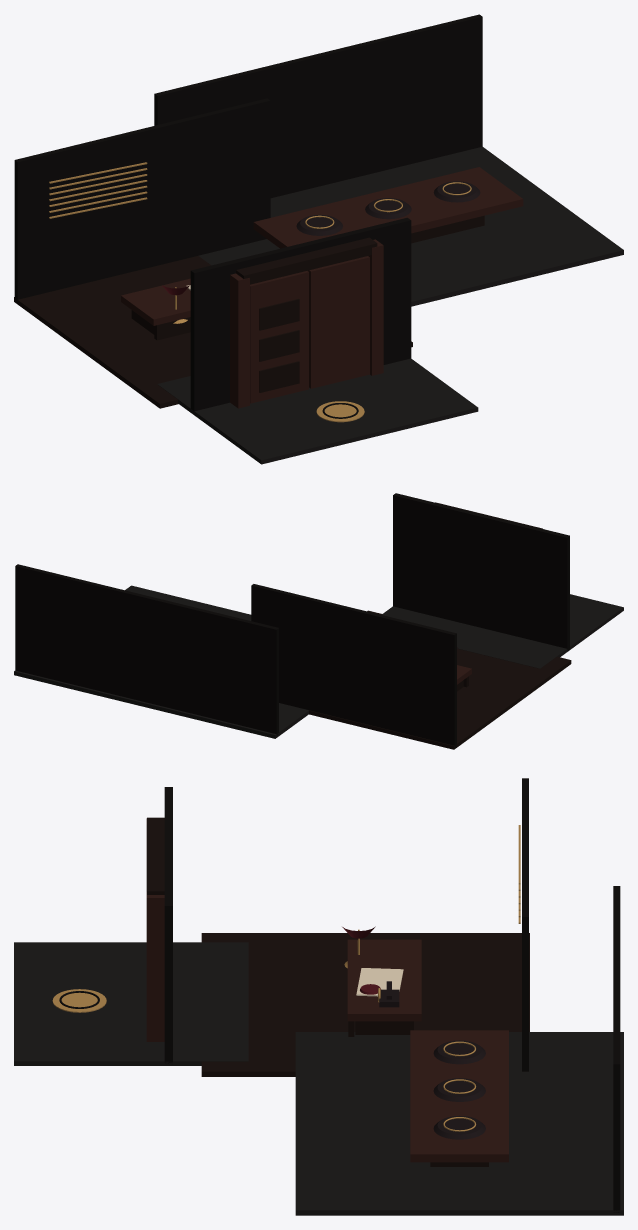
File: estate-core-balanced.glb
3 views of the same model, one above another, from view 1: azimuth 30°, elevation 25°; view 2: azimuth 150°, elevation 25°; view 3: azimuth 270°, elevation 25° (orthographic). The views are drawn at different scales.
Visible parts, largest first — view 1: StudyBackWall, CouncilBackWall, CouncilFloor, ThresholdFloor, StudyFloor, ThresholdWall, CouncilTableTop, ThresholdDoorRightPanel, ThresholdDoorLeftPanel, ThresholdPillarLeft, ThresholdLintel, StudyDeskTop (+9 smaller); view 2: CouncilBackWall, StudyBackWall, ThresholdWall, StudyFloor, ThresholdFloor, CouncilFloor; view 3: CouncilFloor, ThresholdFloor, StudyFloor, CouncilTableTop, StudyDeskTop, ThresholdPillarRight, CouncilBackWall, ThresholdWall, StudyBackWall, ThresholdLintel, AnchorAgalaUIPlinth, ThresholdMonogram (+4 smaller).
Boxes of the visible parts, x1,y1,x2,y2 form: StudyBackWall: [14, 98, 270, 303]; CouncilBackWall: [154, 14, 482, 198]; CouncilFloor: [198, 146, 623, 306]; ThresholdFloor: [157, 358, 478, 464]; StudyFloor: [14, 256, 412, 408]; ThresholdWall: [190, 217, 411, 414]; CouncilTableTop: [253, 167, 523, 248]; ThresholdDoorRightPanel: [307, 256, 369, 388]; ThresholdDoorLeftPanel: [250, 271, 308, 403]; ThresholdPillarLeft: [230, 273, 249, 408]; ThresholdLintel: [236, 237, 377, 284]; StudyDeskTop: [121, 278, 190, 325]; CouncilBackWall: [15, 564, 278, 735]; StudyBackWall: [251, 584, 456, 748]; ThresholdWall: [393, 493, 569, 651]; StudyFloor: [309, 610, 571, 749]; ThresholdFloor: [381, 594, 623, 668]; CouncilFloor: [14, 585, 308, 738]; CouncilFloor: [295, 1032, 623, 1215]; ThresholdFloor: [14, 942, 248, 1065]; StudyFloor: [201, 933, 529, 1076]; CouncilTableTop: [410, 1030, 508, 1162]; StudyDeskTop: [347, 939, 421, 1021]; ThresholdPillarRight: [146, 892, 164, 1041]; CouncilBackWall: [613, 886, 620, 1212]; ThresholdWall: [164, 787, 172, 1064]; StudyBackWall: [522, 778, 528, 1071]; ThresholdLintel: [147, 817, 164, 894]; AnchorAgalaUIPlinth: [433, 1040, 485, 1064]; ThresholdMonogram: [52, 989, 106, 1012].
Bounding box in the file's own units: 28 × 7.57 × 26.
